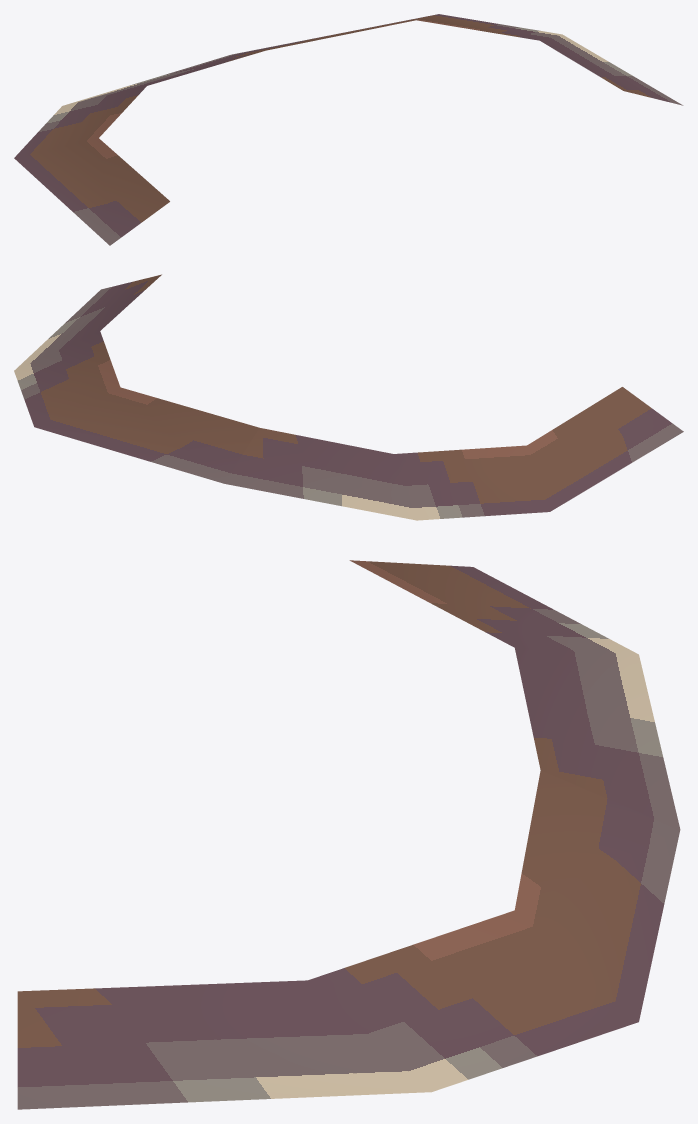
File: hgss-piece-004-element-18-84.glb
3 renders of one model, top to bottom at view 1: azimuth 30°, elevation 25°; view 2: azimuth 150°, elevation 25°; view 3: azimuth 270°, elevation 25°, orthographic. The views are drawn at different scales.
Bounding box in the file's own units: 2 × 0.0986 × 1.
Materials: 1 (1 with a texture image).
